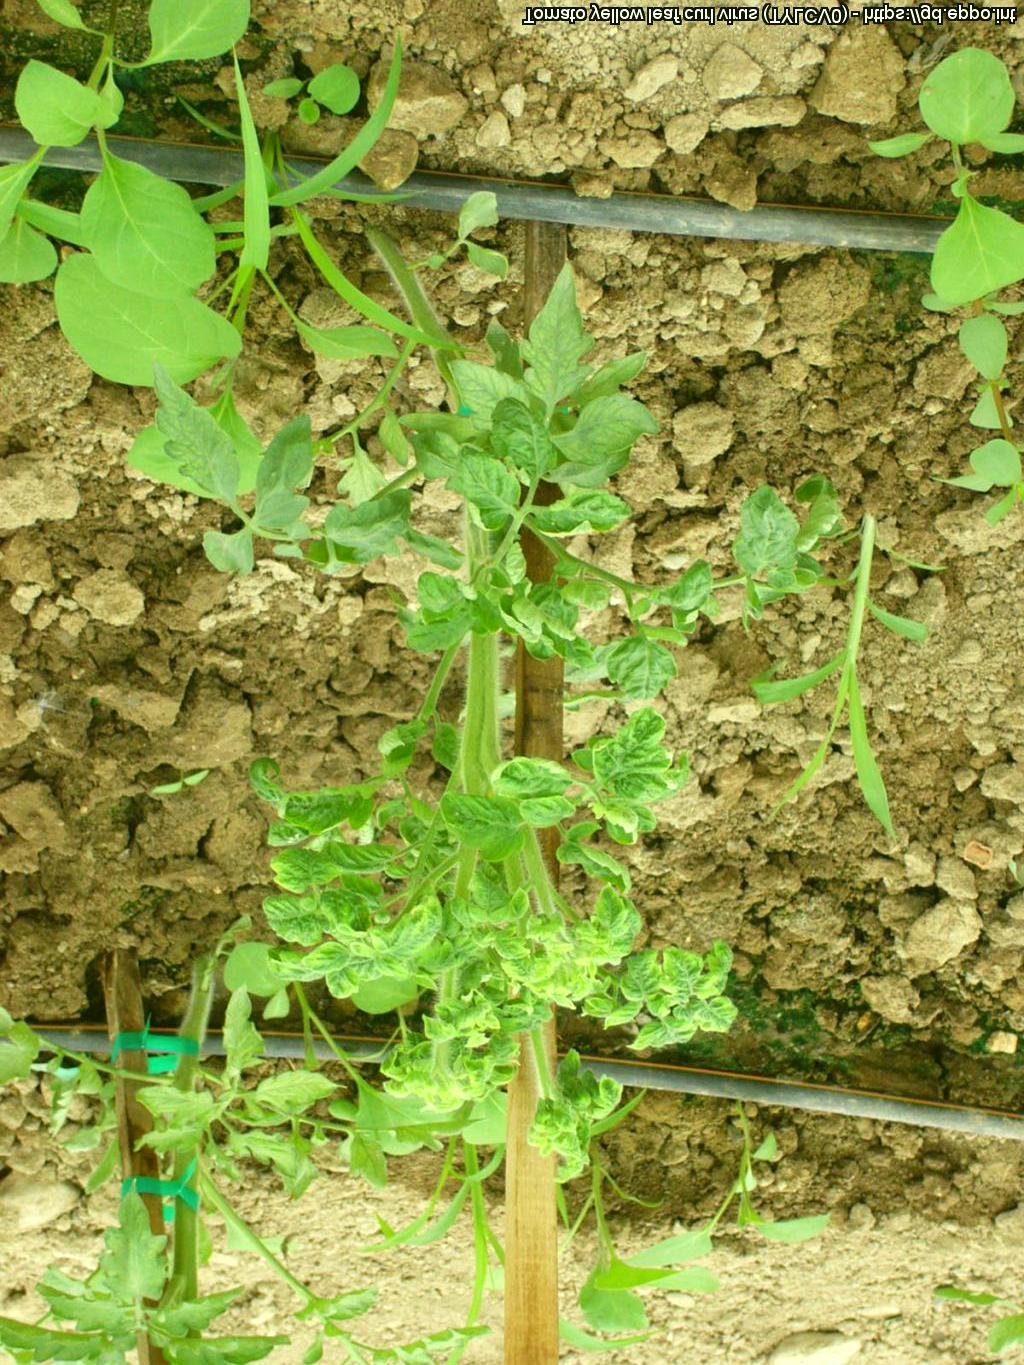Tomato leaf: (144, 373, 252, 499), (518, 259, 596, 431), (596, 709, 688, 801), (428, 789, 542, 861), (254, 431, 328, 537), (732, 481, 810, 581), (606, 621, 674, 705)
